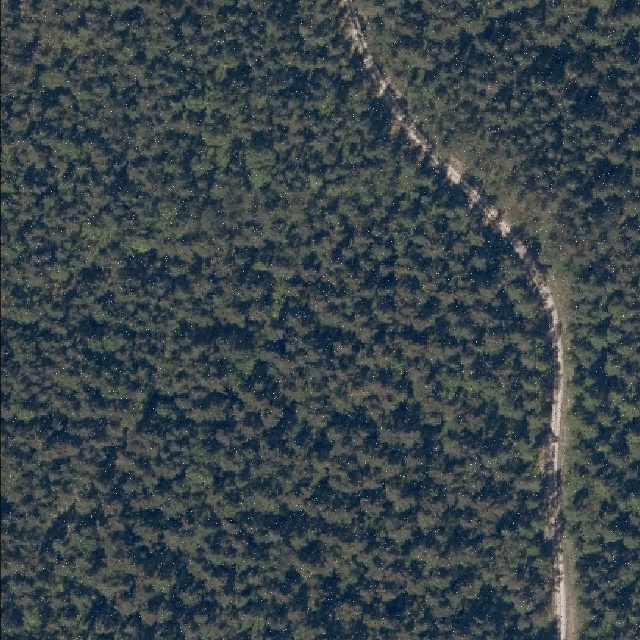vegetation: (0, 0, 557, 640), (351, 1, 639, 640)
